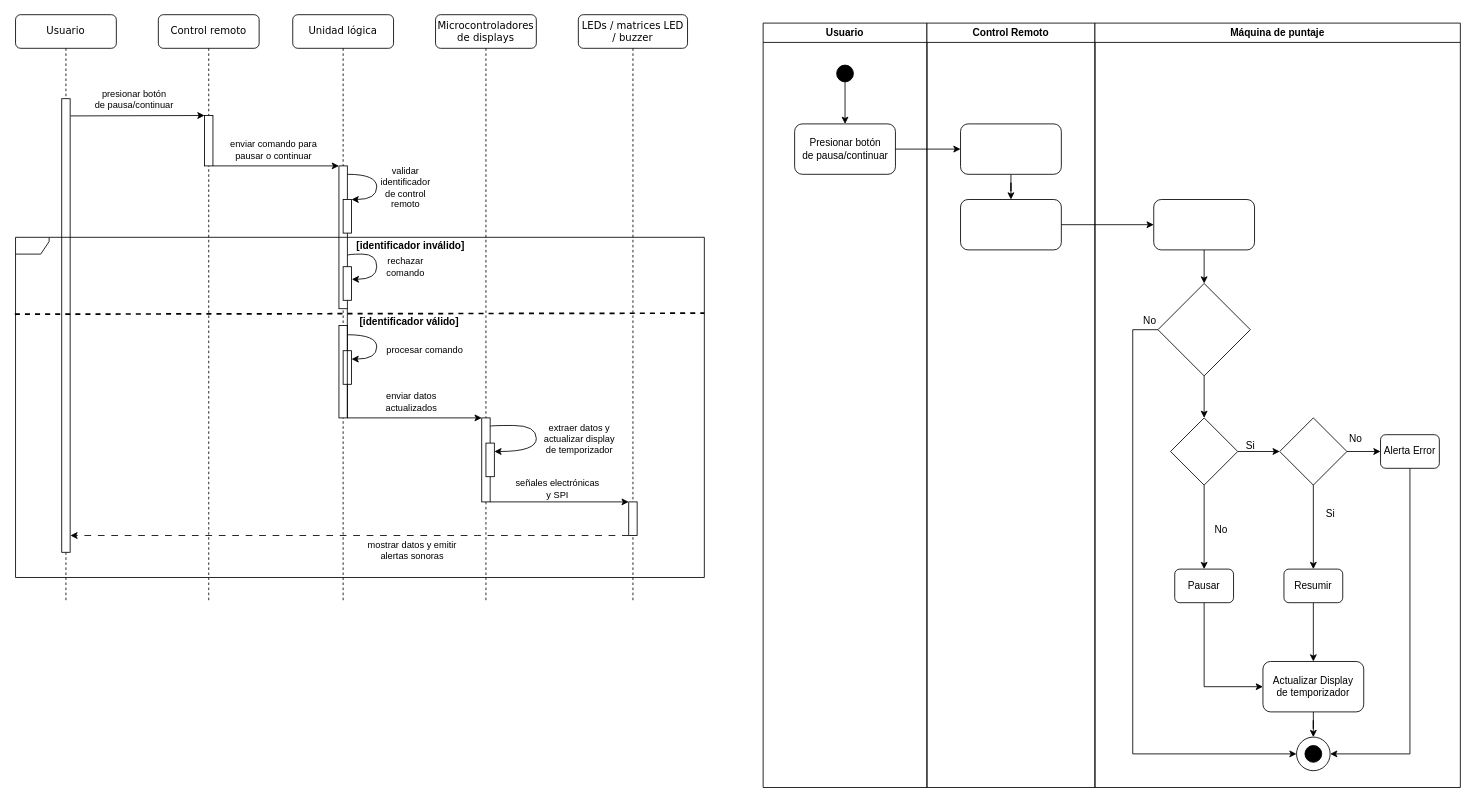
This 1476x802 diagram has some shape labels left out. Here are the shapes that lost their labels. From the top down, the centre of each, then its label:
the point at 1010,148: Detectar Boton presionado
the point at 1010,224: Enviar Comando
the point at 1204,224: Recibir Comando
the point at 1203,329: Identificador de control remoto es válido?
the point at 359,407: alt
the point at 1204,451: En pausa
the point at 1313,451: Tiempo mayor a 0
